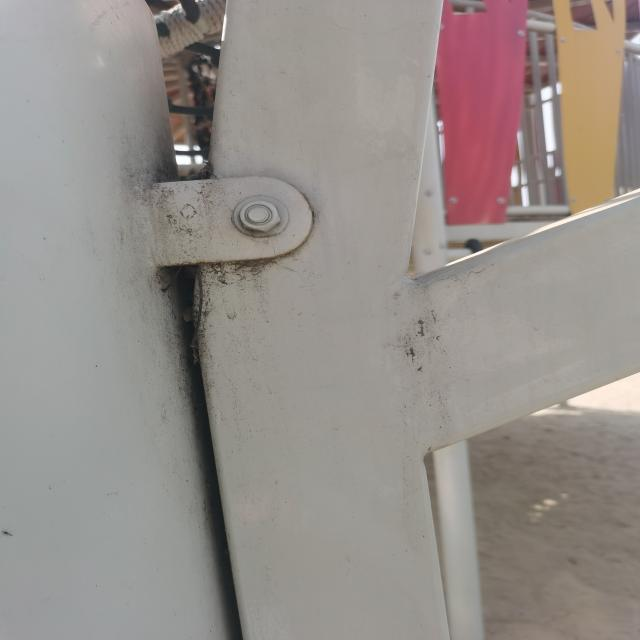bolt nut: (236, 199, 283, 234)
